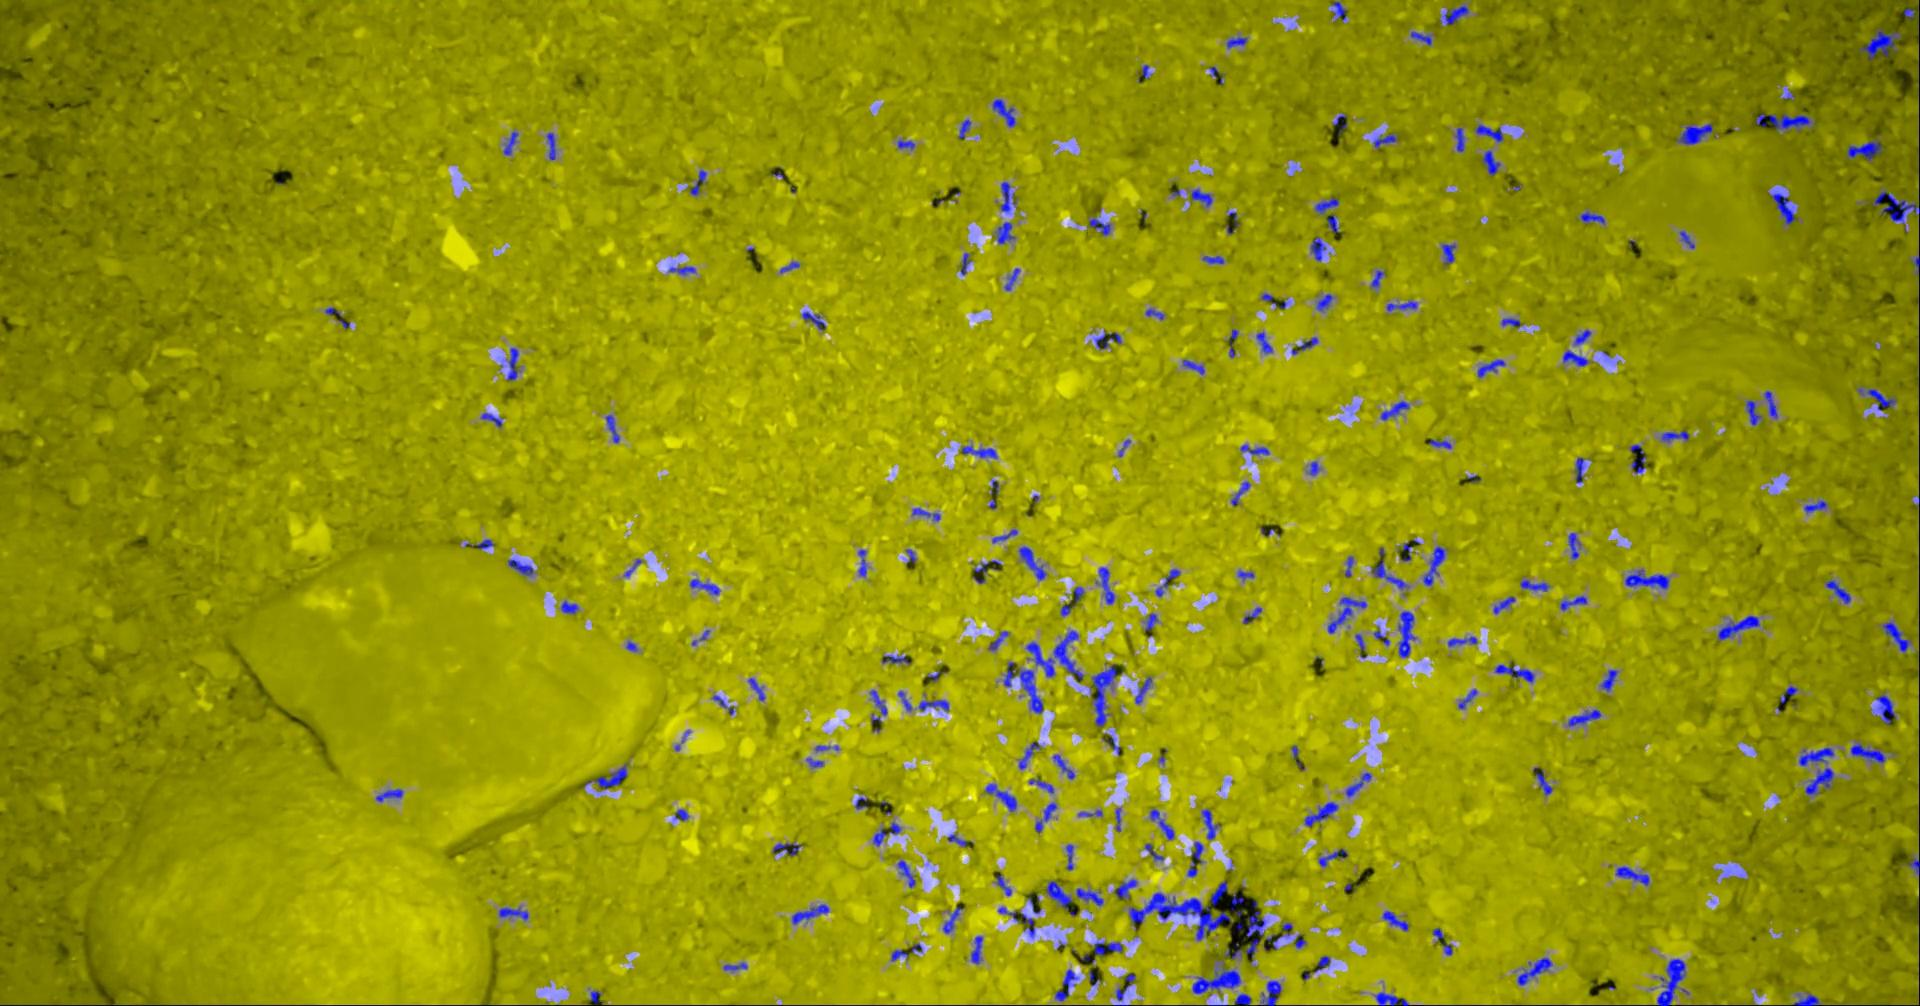ant: (1224, 901, 1265, 959), (1003, 661, 1043, 713), (1870, 191, 1919, 224), (1091, 664, 1116, 727), (1053, 630, 1083, 680), (1370, 547, 1406, 589), (1327, 596, 1366, 633), (1656, 958, 1685, 1005), (1858, 28, 1901, 58), (997, 906, 1034, 937), (1192, 969, 1239, 993), (583, 763, 626, 789), (1717, 615, 1759, 640), (1025, 641, 1054, 676), (1516, 956, 1552, 984), (1755, 113, 1810, 130), (984, 782, 1016, 810), (1018, 546, 1045, 579), (1857, 387, 1895, 410), (1624, 569, 1669, 588), (1495, 661, 1533, 682), (1882, 621, 1909, 652), (1149, 808, 1175, 840), (1423, 546, 1444, 586), (1304, 801, 1337, 826), (1804, 767, 1832, 795), (1846, 138, 1882, 160), (1054, 969, 1078, 1000), (1398, 611, 1415, 655), (1676, 123, 1712, 144), (1046, 880, 1070, 909), (1095, 567, 1114, 603), (791, 904, 828, 923), (1771, 193, 1794, 224), (1850, 742, 1884, 762), (1034, 801, 1057, 832), (1112, 973, 1134, 1005), (1060, 586, 1083, 615), (1615, 866, 1650, 885), (1345, 772, 1371, 796), (992, 98, 1015, 126), (1156, 568, 1178, 596), (872, 822, 900, 845), (1798, 747, 1832, 765), (1567, 709, 1600, 727), (1186, 841, 1203, 876), (1825, 580, 1850, 603), (1380, 400, 1408, 420), (1018, 741, 1039, 768), (1876, 694, 1895, 723), (1051, 754, 1074, 779), (1201, 809, 1219, 840), (1382, 909, 1408, 930), (1531, 767, 1550, 795), (942, 906, 961, 934), (1432, 927, 1451, 955), (1318, 848, 1347, 866), (324, 307, 349, 328), (1095, 330, 1121, 349), (897, 860, 916, 887), (1260, 981, 1280, 1005), (1903, 3, 1919, 34), (1443, 5, 1468, 24), (1481, 150, 1500, 175), (690, 578, 719, 594), (961, 445, 996, 459), (1291, 337, 1318, 354), (1477, 359, 1503, 377), (869, 688, 886, 715), (1076, 887, 1102, 904), (1474, 124, 1502, 141), (801, 311, 825, 330), (1230, 481, 1250, 506), (1001, 180, 1015, 212), (690, 169, 706, 196), (507, 559, 533, 575), (1134, 676, 1150, 702), (1115, 879, 1137, 899), (1374, 992, 1408, 1005), (1088, 216, 1110, 235), (996, 221, 1015, 243), (1093, 941, 1123, 955), (1559, 594, 1586, 610), (1314, 197, 1338, 213), (604, 414, 618, 442), (1630, 445, 1644, 473), (375, 788, 403, 801), (1562, 351, 1587, 366), (1745, 400, 1760, 426), (712, 695, 733, 714), (918, 699, 949, 711), (1190, 188, 1211, 206), (1255, 332, 1272, 353), (507, 347, 518, 380), (748, 677, 764, 700), (1763, 390, 1777, 417), (498, 907, 527, 920), (988, 631, 1007, 650), (1493, 596, 1514, 614), (1600, 669, 1617, 691), (910, 507, 938, 520), (992, 528, 1017, 542), (772, 842, 800, 855), (1385, 300, 1416, 311), (1458, 688, 1476, 708), (1373, 133, 1397, 147), (1310, 236, 1324, 260), (1029, 779, 1053, 793), (996, 874, 1011, 895), (1578, 211, 1604, 224), (503, 131, 517, 154), (973, 560, 1001, 572), (1520, 579, 1548, 591), (970, 935, 982, 963), (1779, 685, 1797, 702), (1373, 626, 1389, 645), (1144, 843, 1163, 860), (1331, 0, 1346, 20), (1410, 30, 1431, 44), (1004, 268, 1018, 290), (1182, 359, 1204, 373), (480, 412, 502, 426), (1316, 293, 1332, 311), (1225, 211, 1238, 234), (1242, 607, 1261, 622), (1291, 746, 1304, 768), (1793, 993, 1818, 1005), (1441, 243, 1455, 263), (1660, 431, 1688, 441), (1448, 636, 1476, 647), (897, 690, 910, 710), (1355, 633, 1366, 657), (1679, 230, 1694, 248), (1803, 500, 1826, 512), (1228, 328, 1237, 357), (1239, 445, 1269, 453), (463, 539, 493, 547), (1225, 36, 1246, 48), (1568, 532, 1578, 558), (560, 600, 578, 614), (957, 119, 970, 138), (1326, 213, 1338, 232), (546, 132, 555, 159), (668, 265, 695, 274), (857, 549, 866, 575), (960, 251, 970, 274), (778, 260, 799, 272), (1575, 329, 1590, 344), (1314, 955, 1330, 970), (1370, 271, 1384, 287), (1229, 893, 1243, 909), (881, 655, 910, 663), (947, 835, 966, 846), (1455, 127, 1464, 151), (1575, 457, 1583, 481), (723, 962, 747, 970), (1145, 307, 1163, 319), (1233, 993, 1251, 1005), (1065, 843, 1073, 869), (1429, 439, 1450, 448), (1145, 614, 1157, 630), (1907, 857, 1919, 874), (897, 138, 914, 149), (1343, 555, 1352, 575), (891, 949, 907, 960), (590, 989, 602, 1005), (1501, 318, 1520, 326), (855, 796, 867, 809), (674, 809, 688, 821), (1203, 255, 1223, 263), (1309, 461, 1319, 475)
